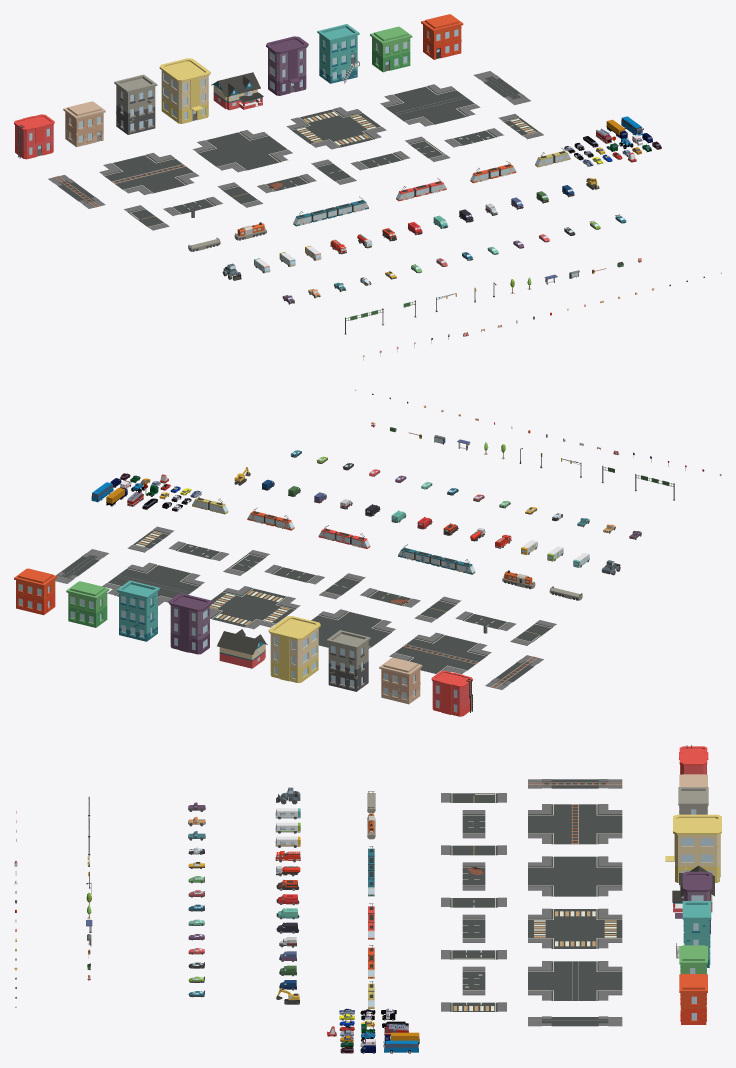
Rendered from tex.fbx.
3 renders of one model, top to bottom at view 1: azimuth 30°, elevation 25°; view 2: azimuth 150°, elevation 25°; view 3: azimuth 270°, elevation 25°, orthographic. The views are drawn at different scales.
Visible parts, largest first — view 1: Building_8, Road_Crossroads_1, Road_Crossroads_2, Road_Crossroads_3, Road_Crossroads_4, Building_2, Building_7, Building_3, Building_9, Building_6, Building_4, Building_5 (+4 smaller); view 2: Building_8, Road_Crossroads_1, Road_Crossroads_3, Building_2, Building_7, Building_3, Road_Crossroads_4, Road_Crossroads_2, Building_9, Building_6, Building_4, Building_5 (+14 smaller); view 3: Road_Crossroads_2, Road_Crossroads_3, Road_Crossroads_4, Road_Crossroads_1, Building_8, Building_3, Building_4, Road_Railroad_2, Road_Railroad_1, Building_7, Building_2, Building_9 (+10 smaller).
Part boxes in pixels (x1,y1,x2,y2): Building_8: (159,58,210,123); Road_Crossroads_1: (286,107,386,149); Road_Crossroads_2: (192,130,292,172); Road_Crossroads_3: (99,152,198,194); Road_Crossroads_4: (380,84,480,126); Building_2: (114,74,157,134); Building_7: (266,36,308,95); Building_3: (317,24,359,83); Building_9: (14,114,54,159); Building_6: (370,26,412,72); Building_4: (421,14,463,59); Building_5: (63,101,105,147); Building_8: (268,616,320,682); Road_Crossroads_1: (210,586,300,629); Road_Crossroads_3: (389,632,491,673); Building_2: (326,630,370,691); Building_7: (168,593,211,654); Building_3: (117,580,159,641); Road_Crossroads_4: (102,562,204,605); Road_Crossroads_2: (311,609,395,648); Building_9: (431,671,472,716); Building_6: (66,581,109,627); Building_4: (14,568,57,615); Building_5: (379,657,422,704); Road_Crossroads_2: (528,856,622,896); Road_Crossroads_3: (528,804,622,844); Road_Crossroads_4: (528,961,622,1000); Road_Crossroads_1: (528,908,622,948); Building_8: (665,814,721,882); Building_3: (676,901,711,967); Building_4: (679,974,707,1024); Road_Railroad_2: (528,1016,622,1026); Road_Railroad_1: (528,779,622,788); Building_7: (675,871,712,934); Building_2: (678,787,708,814); Building_9: (679,745,708,774).
Size of the model in its own units: 24921 by 2660 by 27153.
Materials: 31 (1 with a texture image).
